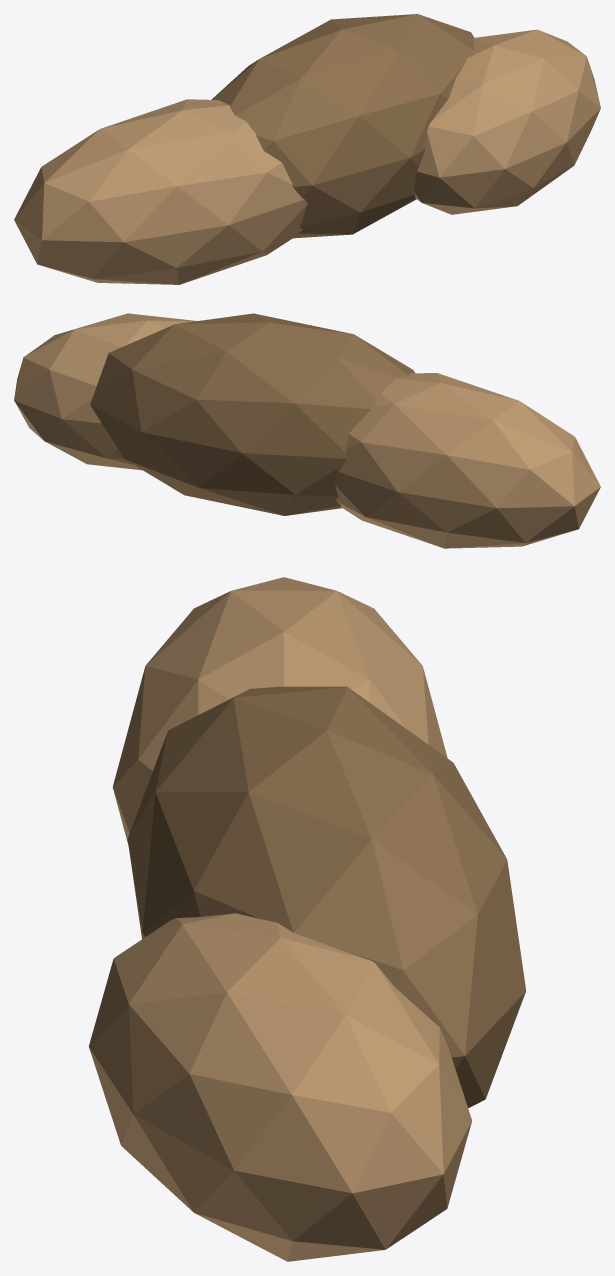
3 renders of one model, top to bottom at view 1: azimuth 30°, elevation 25°; view 2: azimuth 150°, elevation 25°; view 3: azimuth 270°, elevation 25°, orthographic. The views are drawn at different scales.
Parts seen in each view (by area): view 1: root_pal_khaki, root_pal_khakiSeam; view 2: root_pal_khaki, root_pal_khakiSeam; view 3: root_pal_khaki, root_pal_khakiSeam.
Part boxes in pixels (x1,y1,x2,y2): root_pal_khaki: (14,29,600,284); root_pal_khakiSeam: (211,14,475,238); root_pal_khaki: (14,313,600,548); root_pal_khakiSeam: (90,313,414,515); root_pal_khaki: (89,577,472,1261); root_pal_khakiSeam: (127,686,526,1107).
Bounding box in the file's own units: 3.58 × 1.14 × 1.23.
